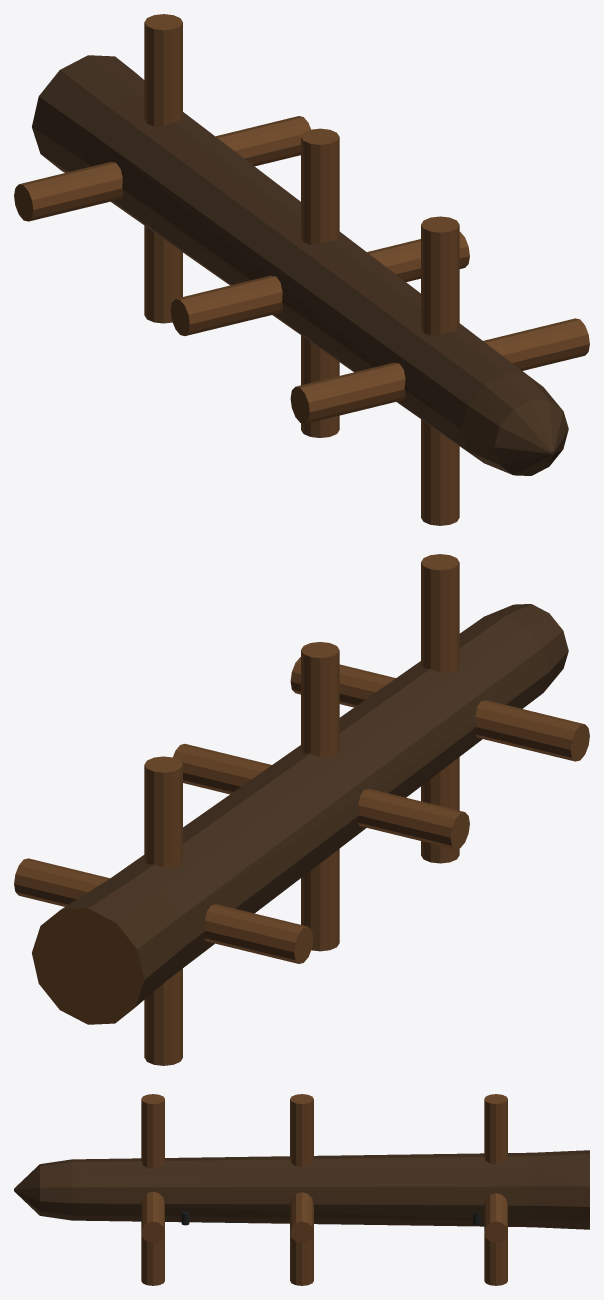
File: SM_Wattle_CornerPost_1348_LOD0.obj
The picture shows the model from 3 angles, top to bottom: view 1: azimuth 30°, elevation 25°; view 2: azimuth 150°, elevation 25°; view 3: azimuth 270°, elevation 25°; orthographic projection. The views are drawn at different scales.
Visible parts, largest first — view 1: hewn_vertical_stake, mortised_joiner_Y, mortised_joiner_X, mortised_joiner_X_cut, mortised_joiner_Y_cut; view 2: hewn_vertical_stake, mortised_joiner_Y, mortised_joiner_X, stake_bottom, mortised_joiner_X_cut, mortised_joiner_Y_cut; view 3: hewn_vertical_stake, mortised_joiner_Y, mortised_joiner_X, mortised_joiner_X_cut, mortised_joiner_Y_cut.
Boxes of the visible parts, x1,y1,x2,y2 form: hewn_vertical_stake: [32, 55, 568, 475]; mortised_joiner_Y: [144, 22, 459, 525]; mortised_joiner_X: [19, 116, 589, 423]; mortised_joiner_X_cut: [14, 184, 309, 423]; mortised_joiner_Y_cut: [144, 14, 459, 232]; hewn_vertical_stake: [61, 604, 568, 1006]; mortised_joiner_Y: [144, 562, 459, 1065]; mortised_joiner_X: [14, 657, 584, 963]; stake_bottom: [32, 908, 144, 1024]; mortised_joiner_X_cut: [294, 724, 589, 963]; mortised_joiner_Y_cut: [144, 554, 459, 772]; hewn_vertical_stake: [14, 1150, 589, 1229]; mortised_joiner_Y: [141, 1099, 507, 1285]; mortised_joiner_X: [141, 1191, 507, 1231]; mortised_joiner_X_cut: [141, 1221, 507, 1242]; mortised_joiner_Y_cut: [141, 1094, 507, 1103].
Bounding box in the file's own units: 0.62 × 0.62 × 1.78.
